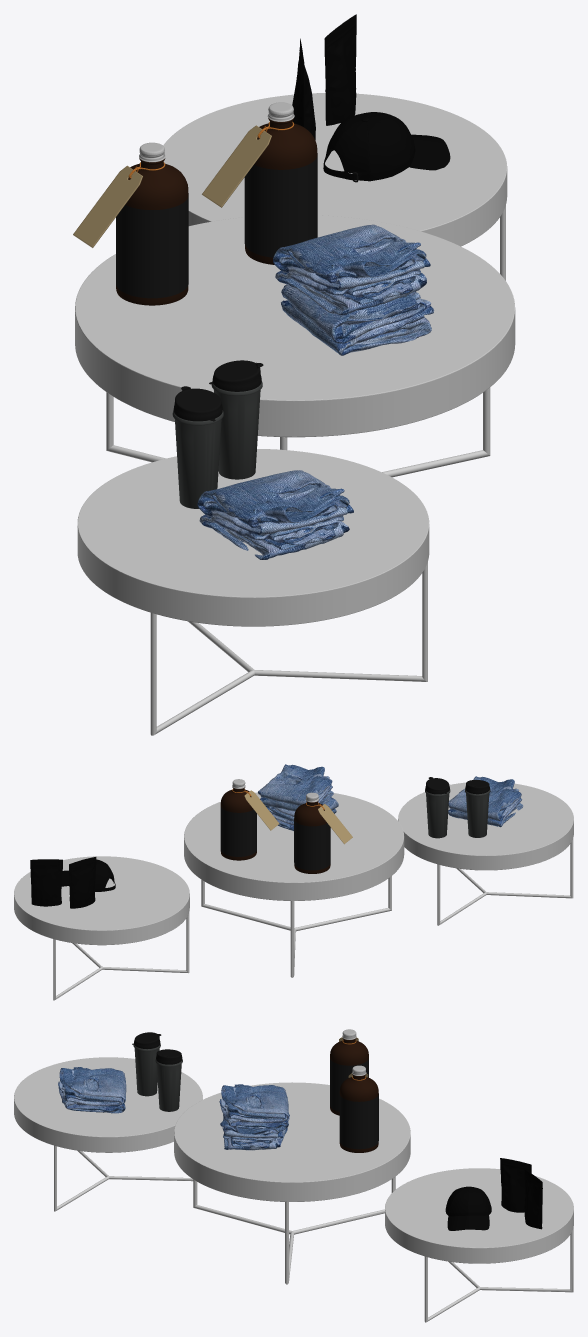
File: Table.fbx
3 renders of one model, top to bottom at view 1: azimuth 30°, elevation 25°; view 2: azimuth 150°, elevation 25°; view 3: azimuth 270°, elevation 25°, orthographic. The views are drawn at different scales.
Parts seen in each view (by area): view 1: marble_table001, marble_table.001, marble_table, 113_stack_of_folded_mens_jeans_Retopo.005, 113_stack_of_folded_mens_jeans_Retopo.003, cold_brew_coffee_prints, baseball_cap, cold_brew_coffee_prints.001, 113_stack_of_folded_mens_jeans_Retopo.004, Cylinder.009, Cylinder.002, resealable-food-pouch-01.001 (+7 smaller); view 2: marble_table001, marble_table, marble_table.001, 113_stack_of_folded_mens_jeans_Retopo.005, 113_stack_of_folded_mens_jeans_Retopo.003, cold_brew_coffee_prints, cold_brew_coffee_prints.001, resealable-food-pouch-01.001, resealable-food-pouch-01, Cylinder.002, Cylinder.009, cold_brew_coffee_glass (+6 smaller); view 3: marble_table001, marble_table, marble_table.001, 113_stack_of_folded_mens_jeans_Retopo.003, 113_stack_of_folded_mens_jeans_Retopo.005, cold_brew_coffee_prints.001, baseball_cap, 113_stack_of_folded_mens_jeans_Retopo.004, resealable-food-pouch-01, Cylinder.002, Cylinder.009, cold_brew_coffee_glass.001 (+4 smaller).
Boxes of the visible parts, x1=… form: marble_table001: x1=75, y1=215, x2=515, y2=477; marble_table.001: x1=77, y1=449, x2=429, y2=735; marble_table: x1=163, y1=93, x2=507, y2=280; 113_stack_of_folded_mens_jeans_Retopo.005: x1=273, y1=224, x2=430, y2=315; 113_stack_of_folded_mens_jeans_Retopo.003: x1=197, y1=470, x2=353, y2=559; cold_brew_coffee_prints: x1=116, y1=193, x2=188, y2=298; baseball_cap: x1=323, y1=112, x2=450, y2=182; cold_brew_coffee_prints.001: x1=244, y1=153, x2=317, y2=257; 113_stack_of_folded_mens_jeans_Retopo.004: x1=281, y1=273, x2=434, y2=355; Cylinder.009: x1=172, y1=410, x2=223, y2=508; Cylinder.002: x1=211, y1=381, x2=262, y2=479; resealable-food-pouch-01.001: x1=324, y1=14, x2=356, y2=125; marble_table001: x1=184, y1=792, x2=404, y2=977; marble_table: x1=14, y1=856, x2=189, y2=1000; marble_table.001: x1=398, y1=782, x2=573, y2=925; 113_stack_of_folded_mens_jeans_Retopo.005: x1=258, y1=764, x2=333, y2=811; 113_stack_of_folded_mens_jeans_Retopo.003: x1=448, y1=776, x2=523, y2=827; cold_brew_coffee_prints: x1=294, y1=818, x2=330, y2=870; cold_brew_coffee_prints.001: x1=220, y1=806, x2=256, y2=856; resealable-food-pouch-01.001: x1=30, y1=859, x2=62, y2=906; resealable-food-pouch-01: x1=69, y1=857, x2=96, y2=908; Cylinder.002: x1=425, y1=789, x2=450, y2=838; Cylinder.009: x1=465, y1=789, x2=490, y2=837; cold_brew_coffee_glass: x1=294, y1=800, x2=330, y2=873; marble_table001: x1=174, y1=1082, x2=410, y2=1284; marble_table: x1=385, y1=1168, x2=573, y2=1322; marble_table.001: x1=14, y1=1057, x2=202, y2=1211; 113_stack_of_folded_mens_jeans_Retopo.003: x1=58, y1=1067, x2=126, y2=1113; 113_stack_of_folded_mens_jeans_Retopo.005: x1=219, y1=1084, x2=289, y2=1131; cold_brew_coffee_prints.001: x1=339, y1=1093, x2=378, y2=1149; baseball_cap: x1=445, y1=1186, x2=491, y2=1230; 113_stack_of_folded_mens_jeans_Retopo.004: x1=220, y1=1114, x2=289, y2=1150; resealable-food-pouch-01: x1=500, y1=1158, x2=531, y2=1212; Cylinder.002: x1=155, y1=1059, x2=182, y2=1111; Cylinder.009: x1=133, y1=1043, x2=160, y2=1096; cold_brew_coffee_glass.001: x1=339, y1=1074, x2=378, y2=1152.
Size of the model in its own units: 1840 by 807 by 2282.
